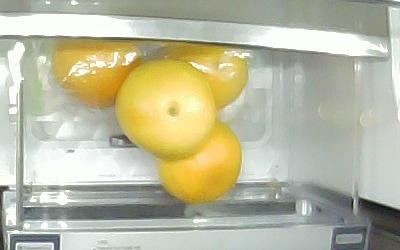grapefruit: (116, 59, 217, 158), (158, 121, 242, 203)
grapefruit_vinyl: (51, 41, 142, 109), (162, 42, 247, 108)
